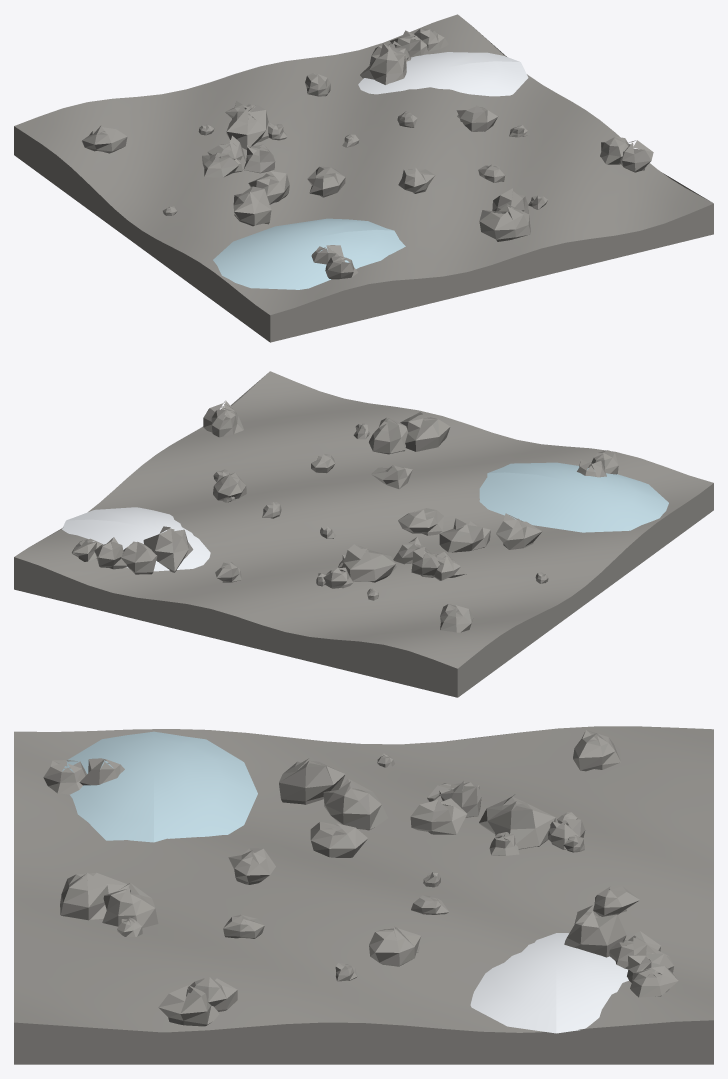
Rendered from mountaineering-and-summit-expedition-moraine-ground-ti-cd243c57__18829.glb.
The picture shows the model from 3 angles, top to bottom: view 1: azimuth 30°, elevation 25°; view 2: azimuth 150°, elevation 25°; view 3: azimuth 270°, elevation 25°; orthographic projection. The views are drawn at different scales.
Visible parts, largest first — view 1: moraine-ground-tile; view 2: moraine-ground-tile; view 3: moraine-ground-tile.
Boxes of the visible parts, bbox=[...] form: moraine-ground-tile: bbox=[14, 14, 713, 342]; moraine-ground-tile: bbox=[14, 371, 713, 697]; moraine-ground-tile: bbox=[14, 726, 713, 1064].
Size of the model in its own units: 4.05 by 0.5315 by 4.
